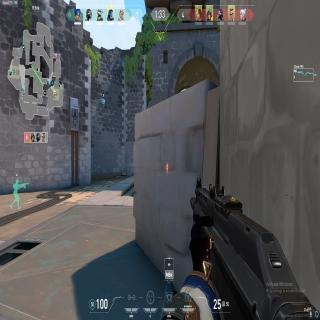ENEMY-BODY: (165, 164, 169, 174)
